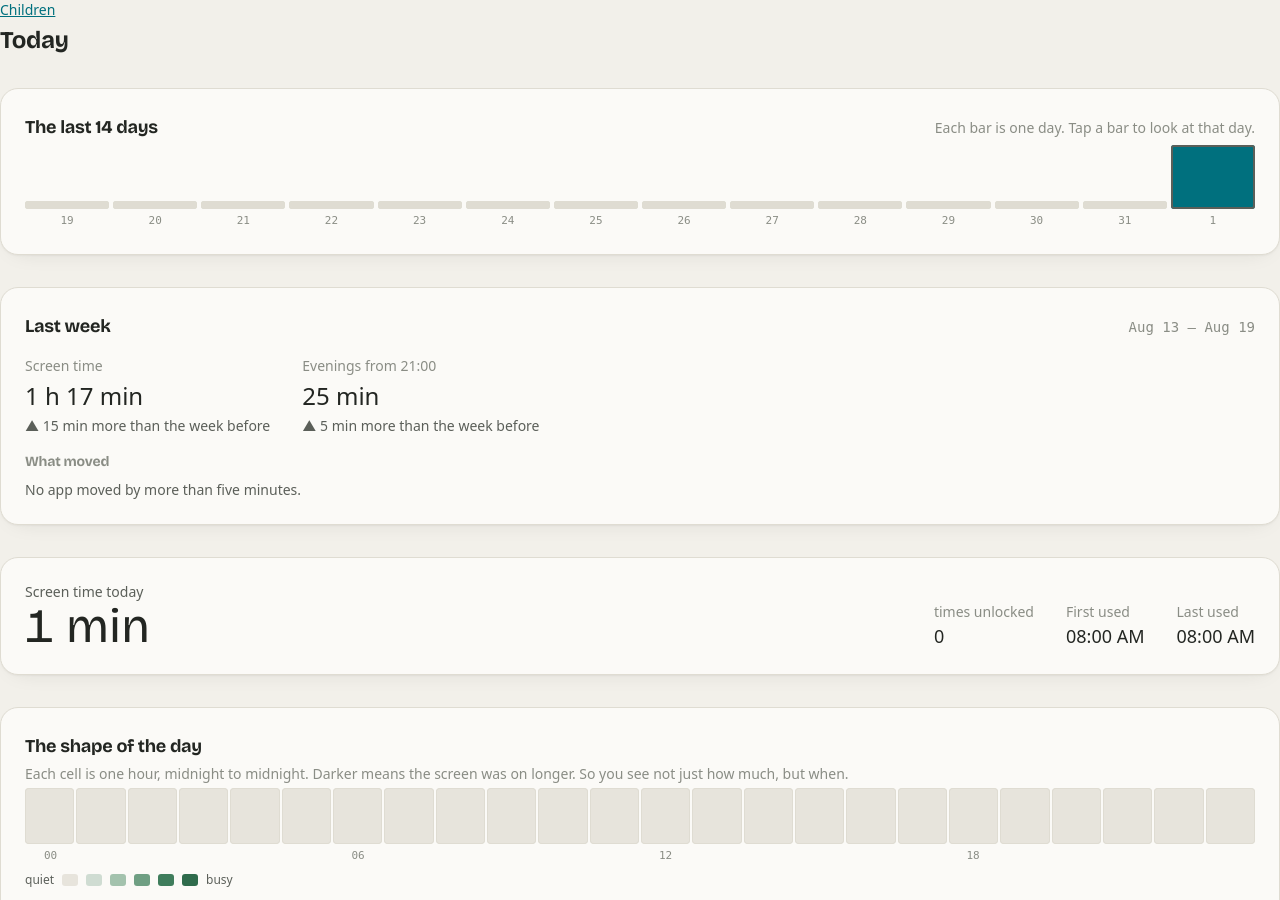
Test: ChildDetail › keeps the strip on screen while a newly selected day loads
The image size is (1280, 900).
Click the button "19": point(67, 215) [25, 201, 109, 230]
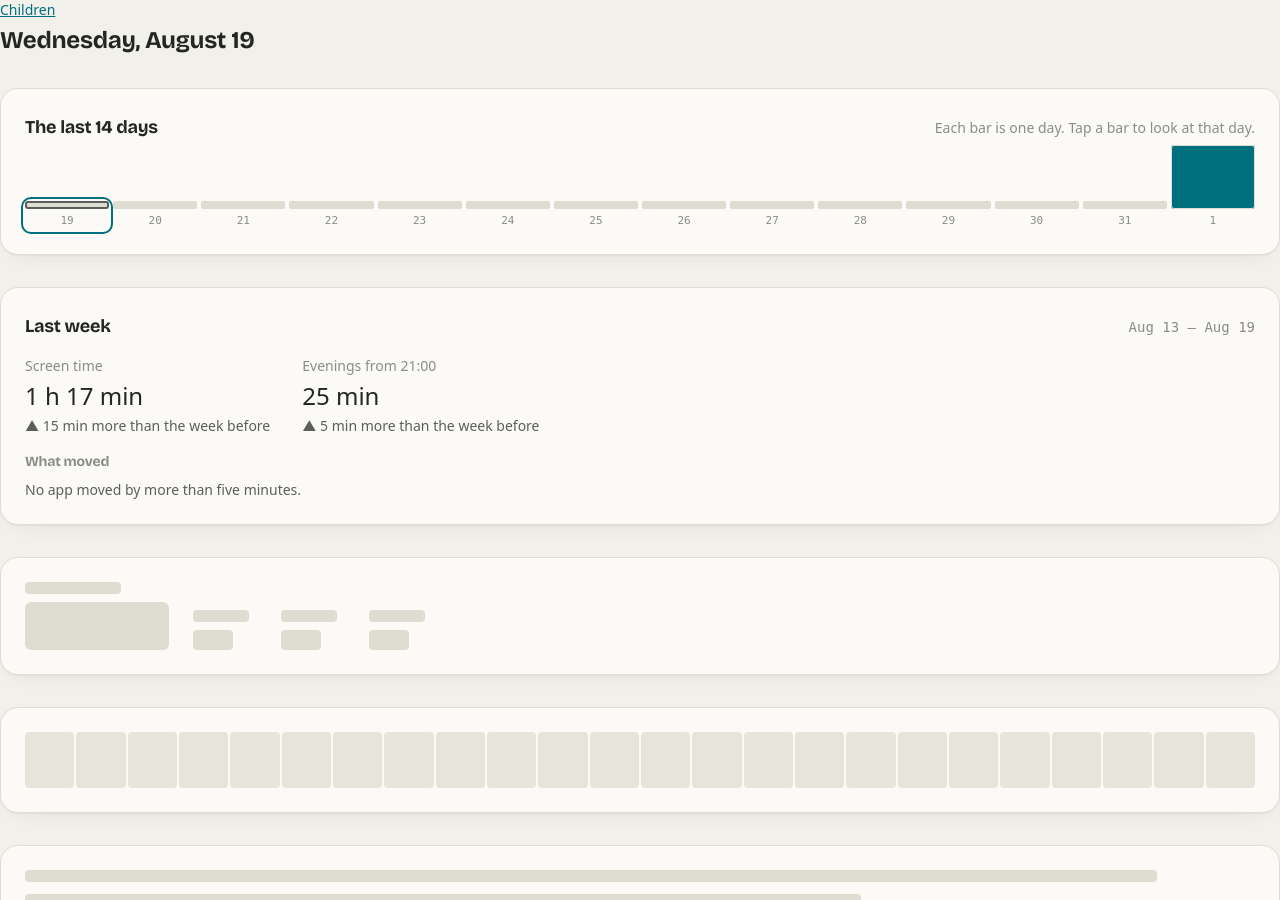
Expected: the 1st message is shown, [25, 582, 425, 650]
